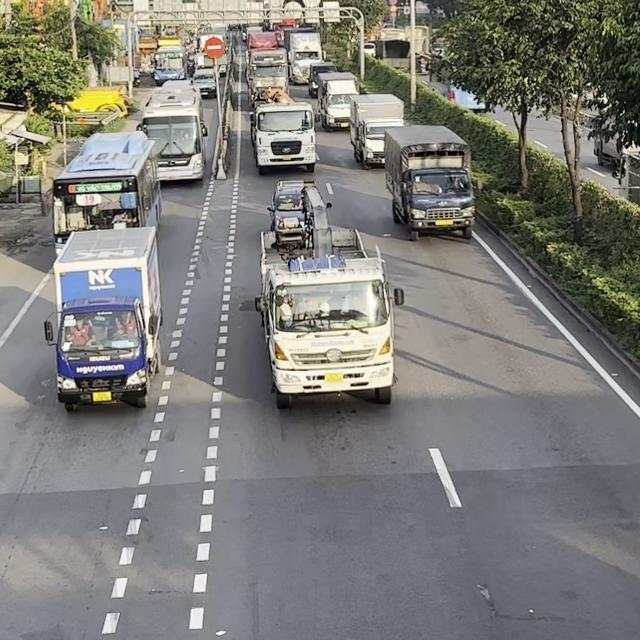bus: (51, 130, 162, 252), (136, 80, 208, 183)
car: (259, 178, 330, 239), (190, 69, 216, 98)
truck: (254, 226, 404, 409), (43, 224, 162, 411), (383, 123, 476, 241), (249, 101, 317, 173), (348, 92, 404, 169), (316, 71, 360, 130), (246, 48, 289, 108)
